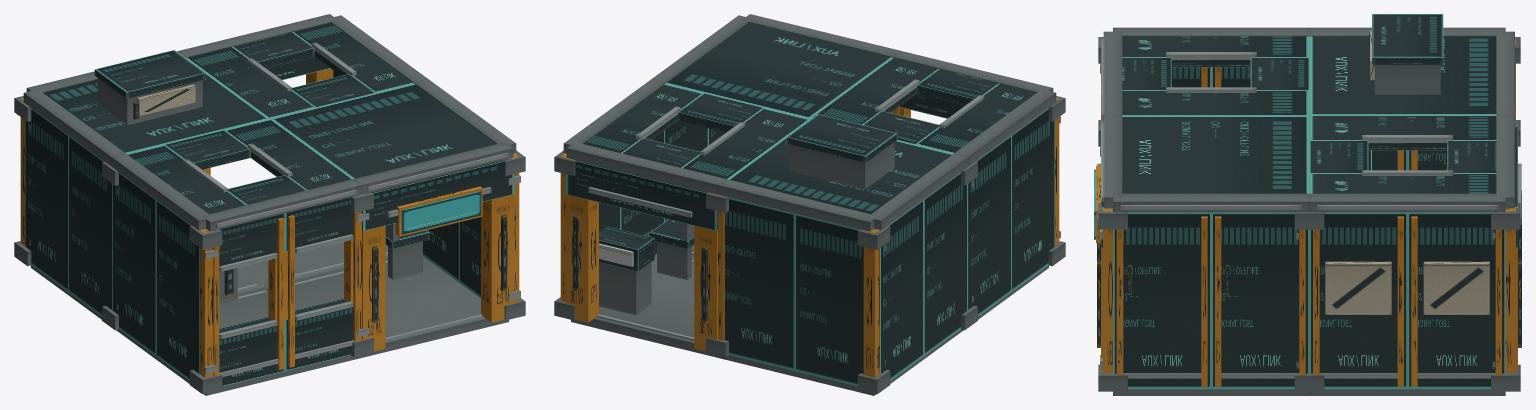
Rendered from CargoDepot_Intact_LOD2.obj.
3 views of the same model, side by side, from view 1: azimuth 30°, elevation 25°; view 2: azimuth 150°, elevation 25°; view 3: azimuth 270°, elevation 25° (orthographic). The views are drawn at different scales.
Parts seen in each view (by area): view 1: 005_roof_4m.002, 007_roof_skylight_4m.002, 019_doorframe_4m.002, 001_roof_skylight_4m.002, 017_wall_window_2m.002, 016_wall_window_2m.002, 004_floor_4m.002, 003_roof_4m.002, 024_wall_vent_2m.002, 021_wall_solid_2m.002, 025_wall_vent_2m.002, 022_wall_solid_2m.002 (+23 smaller); view 2: 030_doorframe_4m.002, 005_roof_4m.002, 028_wall_solid_2m.006, 027_wall_solid_2m.002, 007_roof_skylight_4m.002, 001_roof_skylight_4m.002, 022_wall_solid_2m.002, 025_wall_vent_2m.002, 021_wall_solid_2m.002, 024_wall_vent_2m.002, 003_roof_4m.002, 039_hvac_unit.002 (+21 smaller); view 3: 032_wall_solid_2m.002, 035_wall_vent_2m.002, 033_wall_solid_2m.002, 036_wall_vent_2m.002, 005_roof_4m.002, 001_roof_skylight_4m.002, 007_roof_skylight_4m.002, 003_roof_4m.002, 039_hvac_unit.002, 034_beam_4m.002, 037_beam_4m.002, 015_column_4m.006 (+17 smaller).
Boxes of the visible parts, bbox=[...] form: 005_roof_4m.002: bbox=[270, 83, 496, 179]; 007_roof_skylight_4m.002: bbox=[187, 22, 413, 118]; 019_doorframe_4m.002: bbox=[362, 158, 514, 351]; 001_roof_skylight_4m.002: bbox=[127, 119, 351, 214]; 017_wall_window_2m.002: bbox=[285, 197, 359, 371]; 016_wall_window_2m.002: bbox=[213, 213, 285, 386]; 004_floor_4m.002: bbox=[295, 256, 508, 358]; 003_roof_4m.002: bbox=[43, 58, 269, 153]; 024_wall_vent_2m.002: bbox=[68, 135, 112, 316]; 021_wall_solid_2m.002: bbox=[156, 199, 200, 380]; 025_wall_vent_2m.002: bbox=[25, 108, 68, 292]; 022_wall_solid_2m.002: bbox=[112, 172, 155, 356]; 030_doorframe_4m.002: bbox=[565, 158, 717, 351]; 005_roof_4m.002: bbox=[666, 22, 892, 118]; 028_wall_solid_2m.006: bbox=[724, 197, 794, 371]; 027_wall_solid_2m.002: bbox=[794, 213, 863, 386]; 007_roof_skylight_4m.002: bbox=[583, 83, 809, 179]; 001_roof_skylight_4m.002: bbox=[810, 58, 1036, 153]; 022_wall_solid_2m.002: bbox=[967, 135, 1011, 316]; 025_wall_vent_2m.002: bbox=[879, 199, 923, 380]; 021_wall_solid_2m.002: bbox=[1011, 108, 1054, 292]; 024_wall_vent_2m.002: bbox=[924, 172, 967, 356]; 003_roof_4m.002: bbox=[728, 119, 952, 214]; 039_hvac_unit.002: bbox=[786, 114, 897, 189]; 032_wall_solid_2m.002: bbox=[1113, 212, 1211, 389]; 035_wall_vent_2m.002: bbox=[1309, 212, 1407, 389]; 033_wall_solid_2m.002: bbox=[1211, 212, 1309, 389]; 036_wall_vent_2m.002: bbox=[1407, 212, 1505, 389]; 005_roof_4m.002: bbox=[1122, 115, 1309, 193]; 001_roof_skylight_4m.002: bbox=[1122, 36, 1309, 115]; 007_roof_skylight_4m.002: bbox=[1309, 115, 1496, 193]; 003_roof_4m.002: bbox=[1309, 36, 1496, 115]; 039_hvac_unit.002: bbox=[1369, 14, 1443, 94]; 034_beam_4m.002: bbox=[1113, 193, 1309, 212]; 037_beam_4m.002: bbox=[1309, 193, 1505, 212]; 015_column_4m.006: bbox=[1491, 203, 1520, 391].
Size of the model in its own units: 8.53 by 5.3 by 8.72.
1 material, 1 textured.
